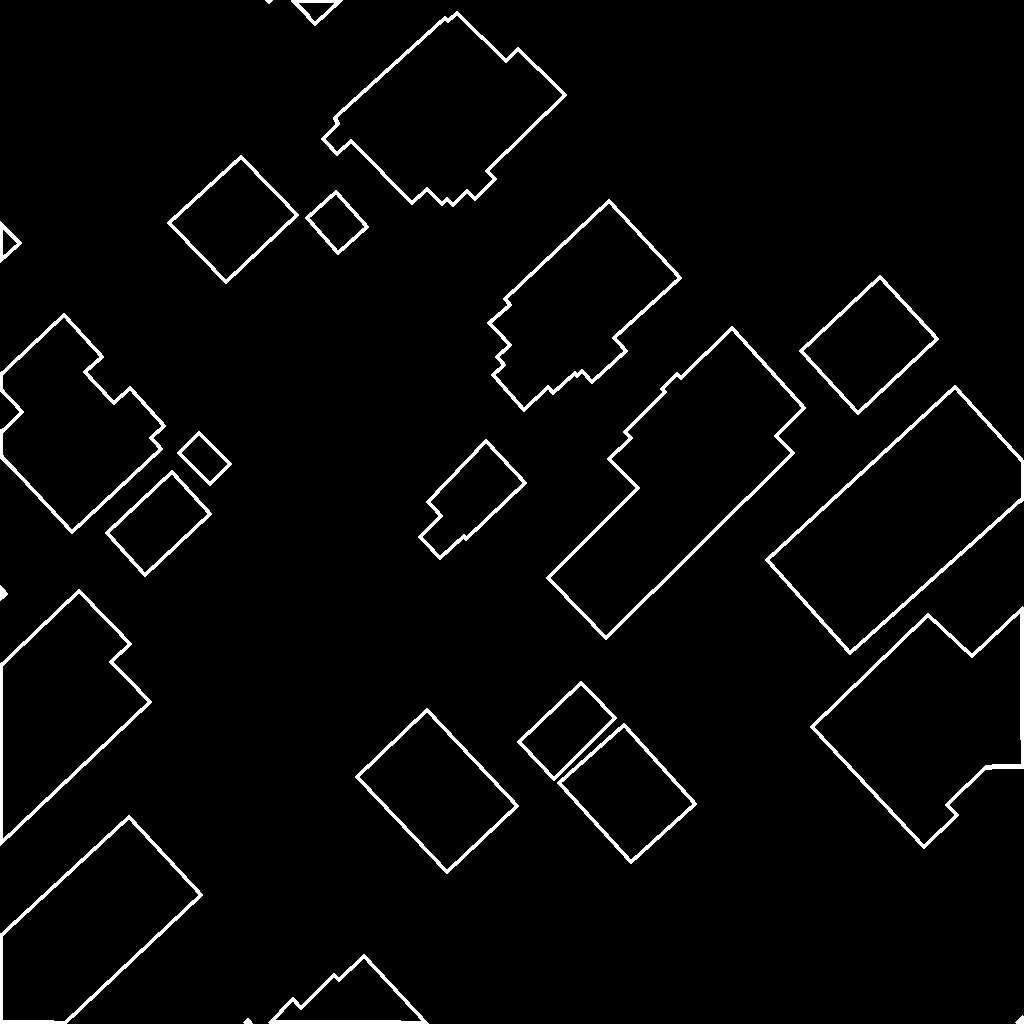building: (548, 328, 805, 639), (767, 387, 1024, 654), (812, 608, 1024, 848), (323, 13, 566, 206), (0, 817, 202, 1024), (489, 201, 681, 411), (0, 591, 151, 845), (0, 315, 165, 533), (357, 710, 518, 873), (559, 725, 696, 863), (801, 277, 938, 414), (169, 157, 298, 283), (420, 441, 526, 559), (245, 956, 428, 1024), (107, 472, 211, 576), (519, 683, 616, 780), (307, 192, 368, 254), (179, 433, 231, 485), (267, 0, 342, 25), (0, 223, 21, 262), (0, 587, 7, 600), (1017, 1017, 1024, 1024)
